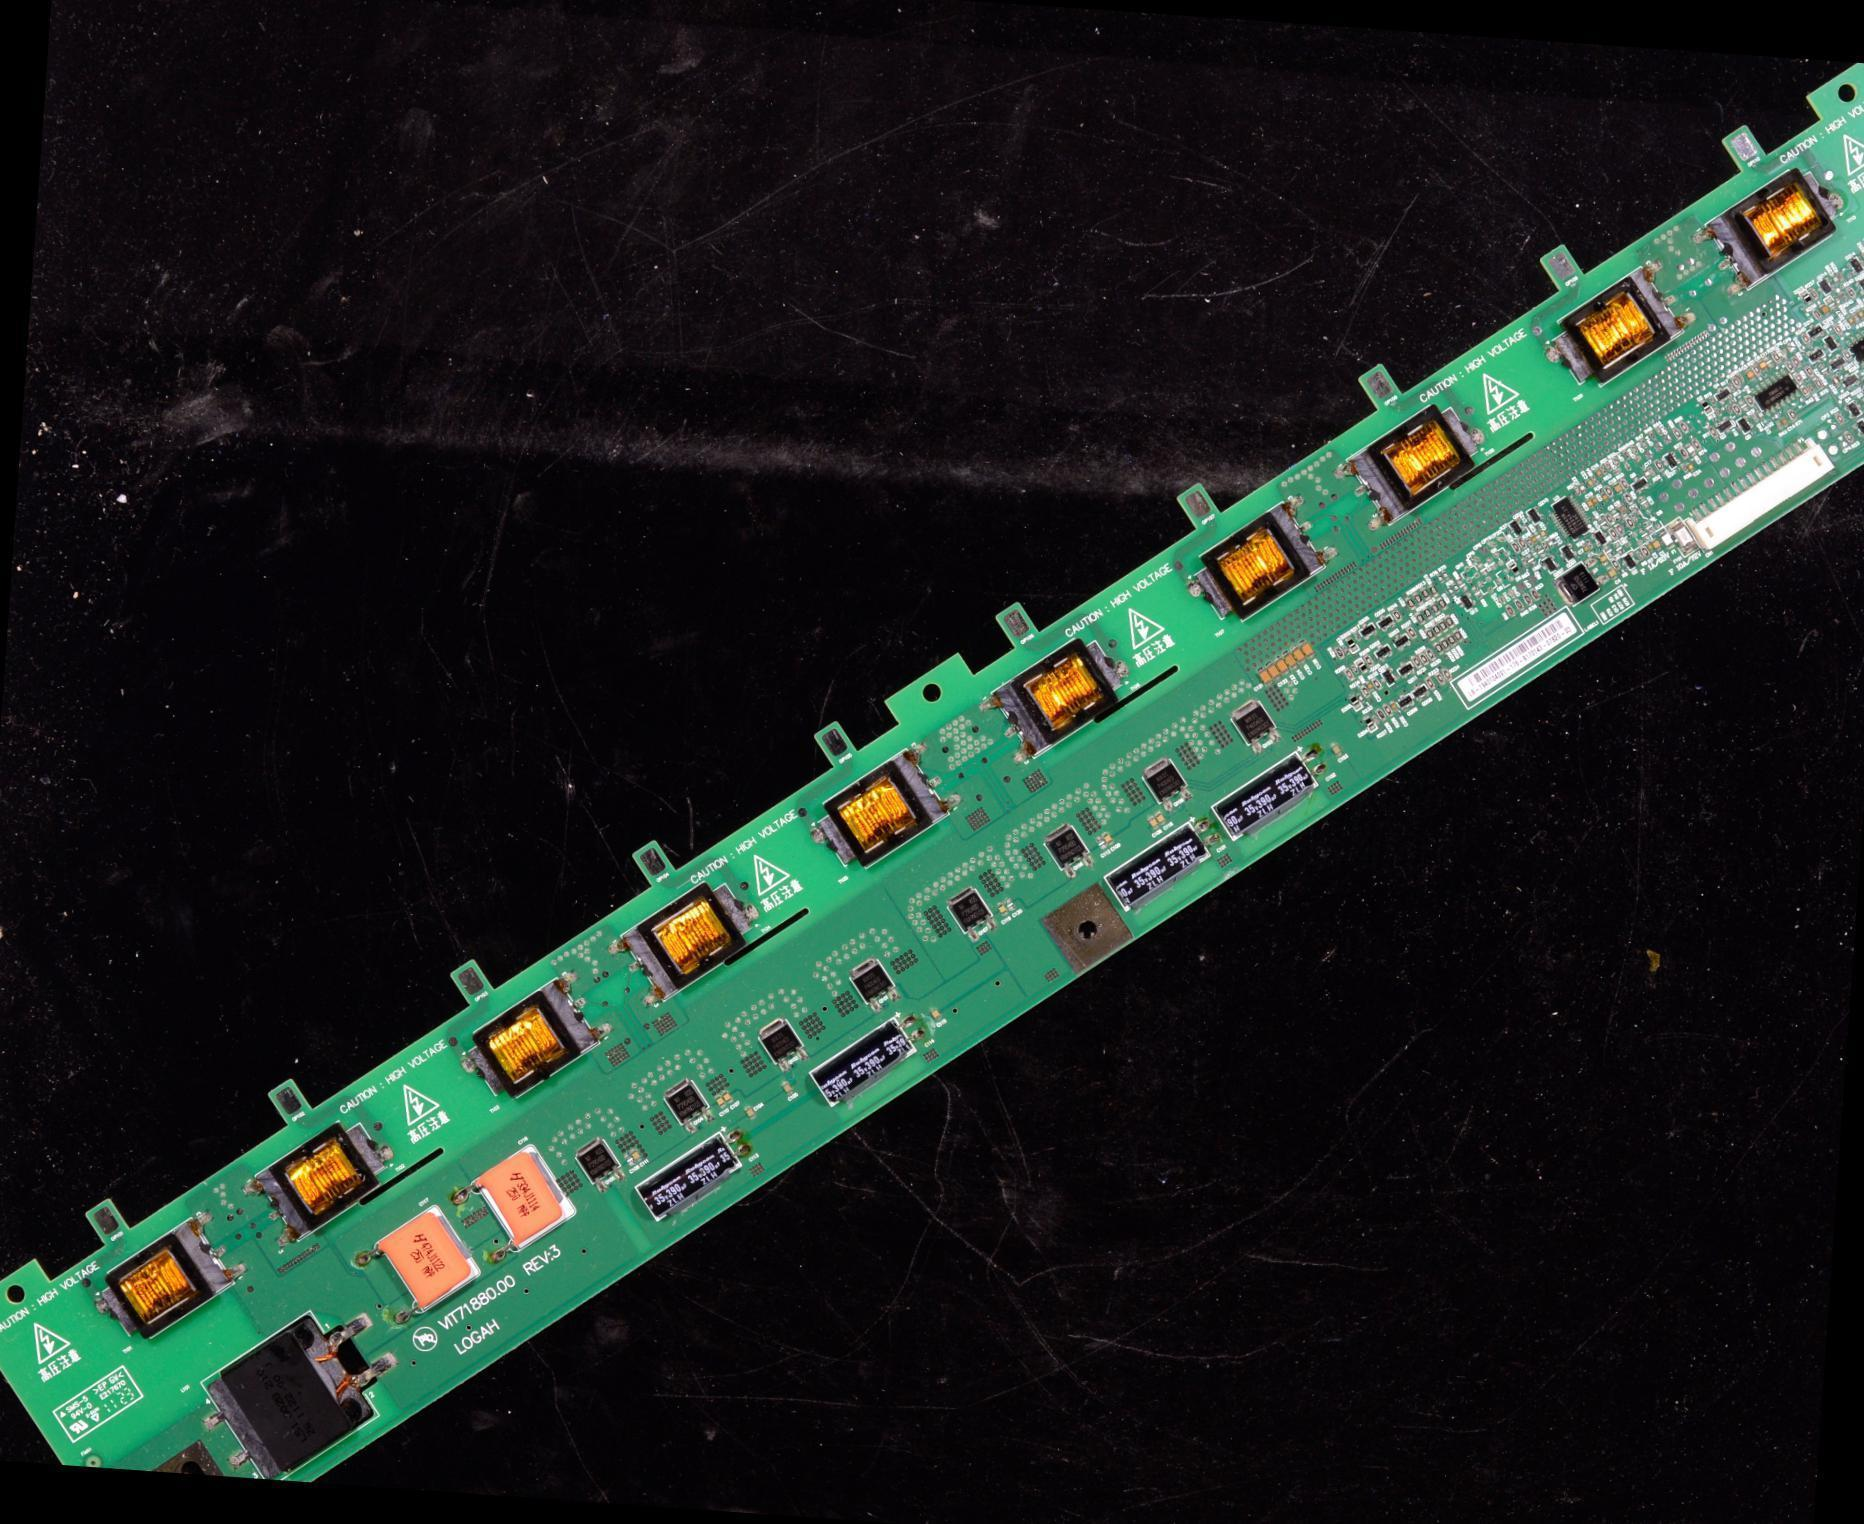Capacitor: (458, 1127, 601, 1262), (357, 1196, 492, 1312), (920, 1007, 953, 1028), (1323, 741, 1352, 763), (1150, 806, 1173, 833), (717, 1085, 738, 1112), (774, 1080, 800, 1100), (990, 904, 1015, 923), (739, 1105, 763, 1123), (629, 1144, 646, 1169), (1091, 833, 1111, 854), (711, 1095, 730, 1112), (1002, 896, 1023, 912), (1141, 815, 1160, 832), (619, 1155, 638, 1172), (1101, 826, 1115, 847), (1753, 357, 1771, 372), (1740, 369, 1758, 382), (1648, 539, 1666, 551), (1596, 550, 1610, 565), (1603, 568, 1621, 580), (1583, 477, 1598, 489), (1599, 486, 1614, 498), (1615, 503, 1630, 516), (1815, 305, 1832, 316), (1683, 462, 1700, 473), (1651, 461, 1667, 472), (1639, 467, 1654, 480), (1575, 482, 1589, 494), (1643, 544, 1658, 554), (1583, 499, 1596, 509), (1580, 544, 1594, 554), (1608, 509, 1624, 519), (1829, 275, 1841, 286), (1592, 469, 1604, 479), (1611, 483, 1624, 493), (1597, 492, 1610, 502), (1537, 531, 1550, 540), (1843, 317, 1857, 326), (1587, 498, 1601, 506), (1528, 536, 1539, 544), (1855, 310, 1863, 319)
IC: (1554, 555, 1604, 606), (1749, 371, 1806, 411), (1547, 493, 1590, 536), (1841, 323, 1863, 365)
Resistor: (1526, 588, 1551, 602), (1827, 409, 1847, 426), (1378, 705, 1399, 718), (1440, 665, 1455, 683), (1365, 678, 1387, 690), (1519, 594, 1537, 608), (1509, 600, 1528, 613), (1329, 648, 1347, 661), (1689, 437, 1708, 450), (1702, 427, 1721, 440), (1599, 514, 1619, 526), (1444, 635, 1462, 649), (1407, 657, 1425, 670), (1617, 448, 1634, 461), (1338, 671, 1359, 682), (1401, 628, 1419, 639), (1783, 410, 1802, 423), (1675, 421, 1693, 433), (1635, 438, 1653, 450), (1414, 655, 1433, 666), (1431, 673, 1450, 685), (1410, 612, 1426, 625), (1623, 516, 1638, 529), (1450, 631, 1467, 642), (1348, 630, 1365, 643), (1419, 649, 1437, 661), (1355, 686, 1372, 699), (1843, 288, 1859, 300), (1840, 349, 1856, 361), (1700, 406, 1717, 418), (1839, 431, 1857, 443), (1675, 446, 1692, 459), (1434, 598, 1452, 608), (1372, 711, 1390, 722), (1450, 581, 1464, 595), (1388, 609, 1403, 623), (1422, 679, 1437, 693), (1803, 364, 1817, 378), (1440, 567, 1452, 582), (1502, 606, 1517, 618), (1429, 604, 1444, 616), (1768, 352, 1784, 364), (1729, 373, 1742, 389), (1512, 536, 1528, 549), (1508, 542, 1524, 554), (1408, 594, 1427, 604), (1608, 560, 1625, 571), (1426, 584, 1443, 595), (1436, 640, 1453, 651), (1429, 644, 1446, 655), (1798, 334, 1814, 346), (1780, 361, 1797, 372), (1748, 365, 1765, 377), (1791, 375, 1808, 385), (1605, 457, 1622, 467), (1612, 524, 1629, 535), (1637, 546, 1653, 558), (1442, 618, 1460, 628), (1651, 425, 1665, 436), (1670, 427, 1685, 440), (1634, 549, 1647, 561), (1432, 575, 1447, 585), (1420, 608, 1435, 620), (1429, 626, 1444, 636), (1809, 309, 1823, 320), (1788, 357, 1804, 368), (1625, 446, 1641, 457), (1605, 529, 1621, 541), (1831, 322, 1844, 334), (1734, 372, 1746, 384), (1419, 588, 1434, 600), (1423, 629, 1437, 640), (1362, 656, 1376, 667), (1806, 289, 1820, 300), (1797, 387, 1812, 398), (1645, 431, 1659, 442), (1601, 462, 1615, 472), (1617, 479, 1630, 489), (1622, 495, 1637, 506), (1810, 380, 1825, 389), (1725, 383, 1737, 393), (1747, 414, 1759, 424), (1772, 419, 1785, 431), (1402, 600, 1417, 609), (1730, 404, 1744, 414), (1744, 396, 1755, 406), (1713, 408, 1725, 417), (1645, 466, 1658, 476), (1436, 624, 1450, 632), (1444, 587, 1456, 596), (1834, 272, 1846, 282), (1837, 293, 1848, 302), (1832, 295, 1842, 303), (1706, 396, 1719, 405), (1858, 375, 1863, 388), (1860, 250, 1863, 264)
Transistor: (1033, 809, 1099, 879), (742, 1014, 810, 1070), (1127, 756, 1194, 812), (1218, 696, 1283, 751), (571, 1128, 627, 1190), (838, 955, 899, 1010), (660, 1078, 718, 1133), (934, 884, 996, 935), (1623, 476, 1655, 496), (1500, 517, 1533, 537), (1390, 693, 1419, 714), (1409, 682, 1437, 703), (1732, 416, 1760, 438), (1520, 504, 1548, 525), (1709, 417, 1738, 437), (1369, 641, 1393, 664), (1455, 564, 1482, 584), (1452, 592, 1479, 612), (1657, 449, 1683, 470), (1614, 554, 1643, 573), (1370, 613, 1398, 632), (1393, 661, 1419, 680), (1554, 545, 1581, 563), (1813, 276, 1838, 295), (1587, 531, 1614, 546), (1375, 669, 1399, 686), (1357, 618, 1377, 640), (1537, 557, 1560, 573), (1387, 633, 1410, 649)
